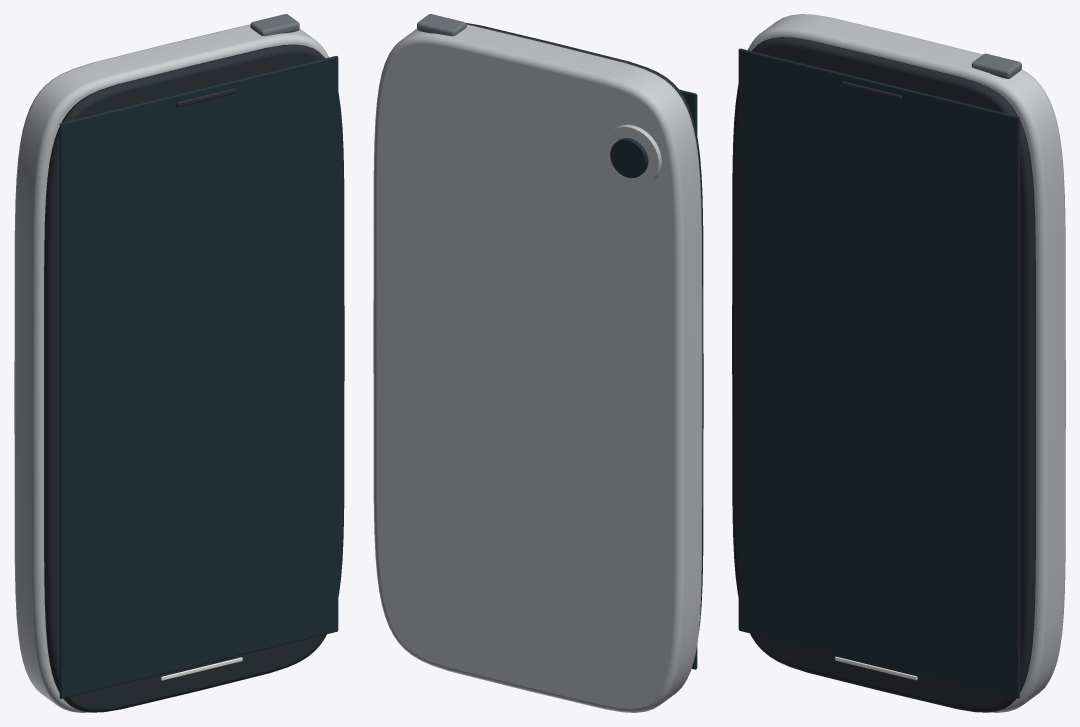
The model's file is fullscreen-collection.glb.
3 renders of one model, left to right at view 1: azimuth 30°, elevation 25°; view 2: azimuth 150°, elevation 25°; view 3: azimuth 330°, elevation 25°, orthographic.
Visible parts, largest first — view 1: Display_glass, Aluminium_rear, Black_glass_front, Power; view 2: Aluminium_rear, Black_glass_front, Rear_camera_ring, Rear_lens, Power; view 3: Display_glass, Aluminium_rear, Black_glass_front, Power.
Boxes of the visible parts, x1,y1,x2,y2 form: Display_glass: (59,56,338,698); Aluminium_rear: (14,24,338,712); Black_glass_front: (44,44,344,712); Power: (250,14,299,36); Aluminium_rear: (373,24,702,712); Black_glass_front: (466,23,703,630); Rear_camera_ring: (602,124,661,187); Rear_lens: (610,138,648,178); Power: (417,14,466,36); Display_glass: (738,48,1019,698); Aluminium_rear: (738,14,1065,712); Black_glass_front: (732,37,1035,712); Power: (971,53,1021,78).
Bounding box in the file's own units: 2.1 × 4.13 × 0.54.
